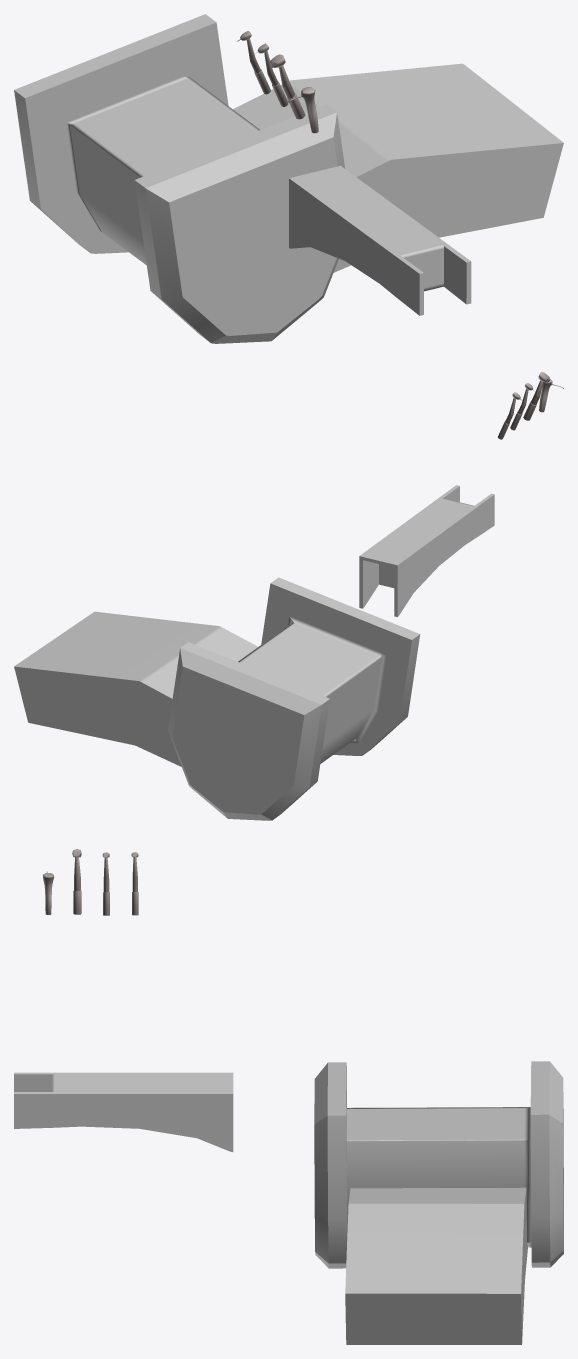
File: prop_tools.fbx
3 views of the same model, one above another, from view 1: azimuth 30°, elevation 25°; view 2: azimuth 150°, elevation 25°; view 3: azimuth 270°, elevation 25° (orthographic). The views are drawn at different scales.
Parts seen in each view (by area): view 1: unit, dental_chair, mounted_holder, pCylinder20, polySurface12, polySurface8, polySurface11; view 2: unit, dental_chair, mounted_holder; view 3: unit, dental_chair, mounted_holder.
Boxes of the visible parts, x1=… form: unit: x1=14, y1=14, x2=345, y2=343; dental_chair: x1=233, y1=63, x2=563, y2=272; mounted_holder: x1=289, y1=166, x2=471, y2=315; pCylinder20: x1=269, y1=54, x2=305, y2=119; polySurface12: x1=287, y1=87, x2=318, y2=133; polySurface8: x1=237, y1=31, x2=270, y2=94; polySurface11: x1=255, y1=43, x2=288, y2=106; unit: x1=168, y1=577, x2=420, y2=820; dental_chair: x1=14, y1=611, x2=257, y2=766; mounted_holder: x1=359, y1=485, x2=494, y2=616; unit: x1=314, y1=1061, x2=563, y2=1268; dental_chair: x1=345, y1=1187, x2=527, y2=1344; mounted_holder: x1=14, y1=1072, x2=233, y2=1151.
Size of the model in its own units: 87.34 by 78.42 by 108.
